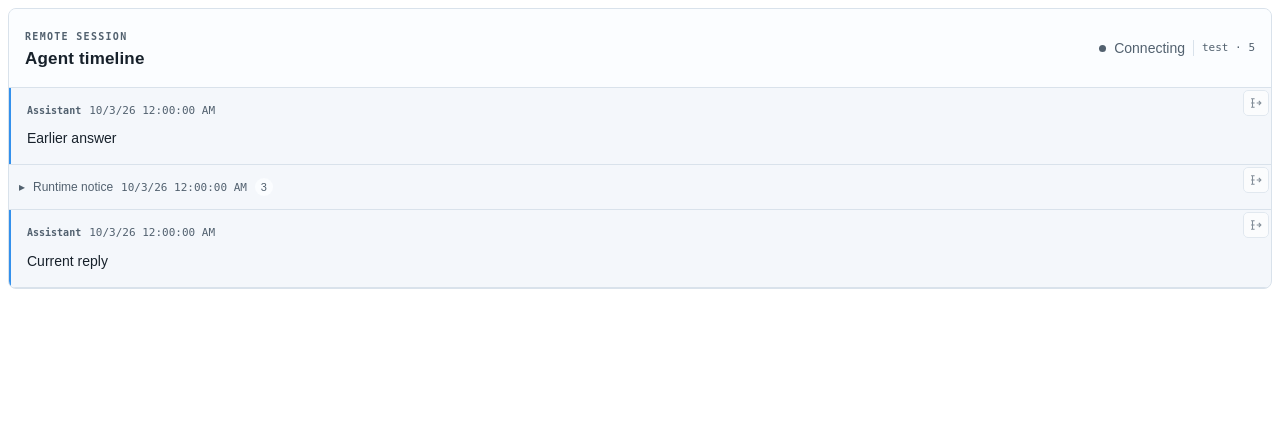
Test: incremental timeline rendering › does not repaint an expanded notice group when only the current assistant reply streams
Click the button with class "agent-notice-toggle". click: (73, 187)
box: [9,169,1271,205]
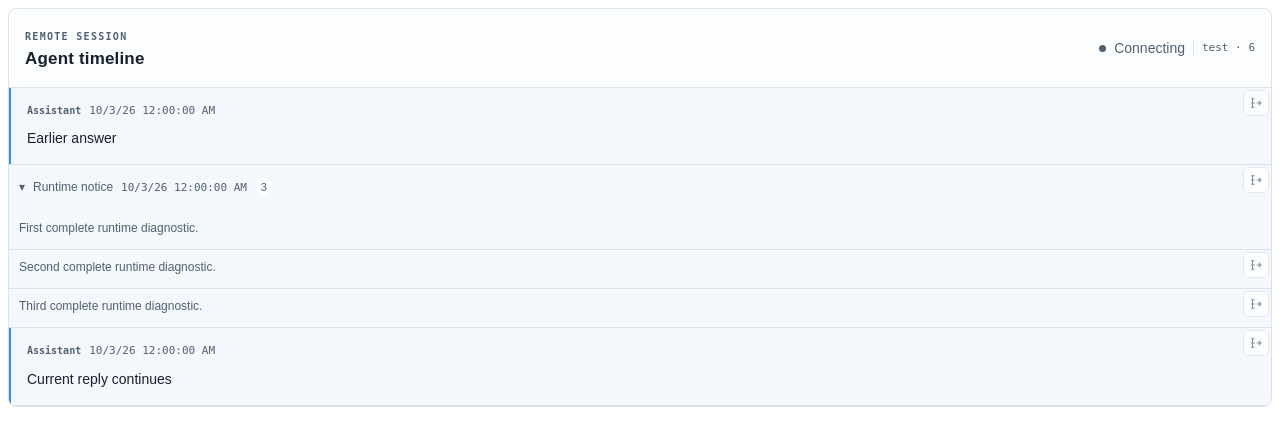
Check: the text "Current reply continues" is shown, box [27,371,172,387]
